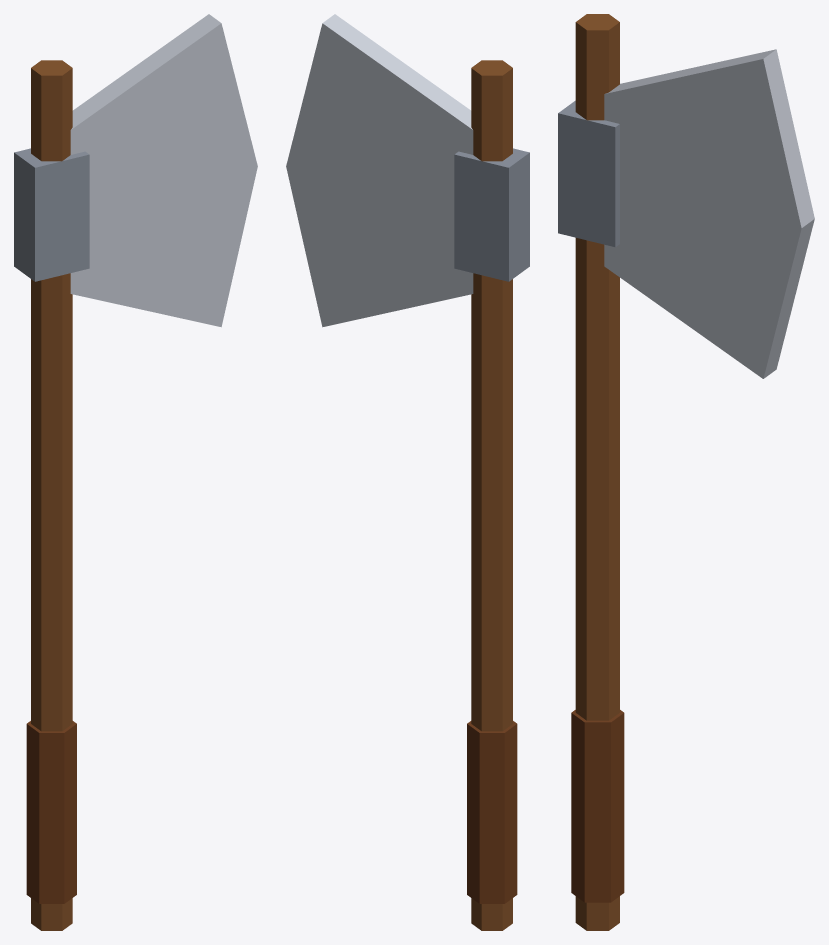
File: axe.fbx
3 renders of one model, left to right at view 1: azimuth 30°, elevation 25°; view 2: azimuth 150°, elevation 25°; view 3: azimuth 330°, elevation 25°, orthographic. The views are drawn at different scales.
Visible parts, largest first — view 1: axe; view 2: axe; view 3: axe.
Part boxes in pixels (left/top/right/bottom): axe: left=14, top=14, right=257, bottom=930; axe: left=286, top=14, right=529, bottom=930; axe: left=558, top=14, right=814, bottom=930.
Bounding box in the file's own units: 0.25 × 0.91 × 0.048.
